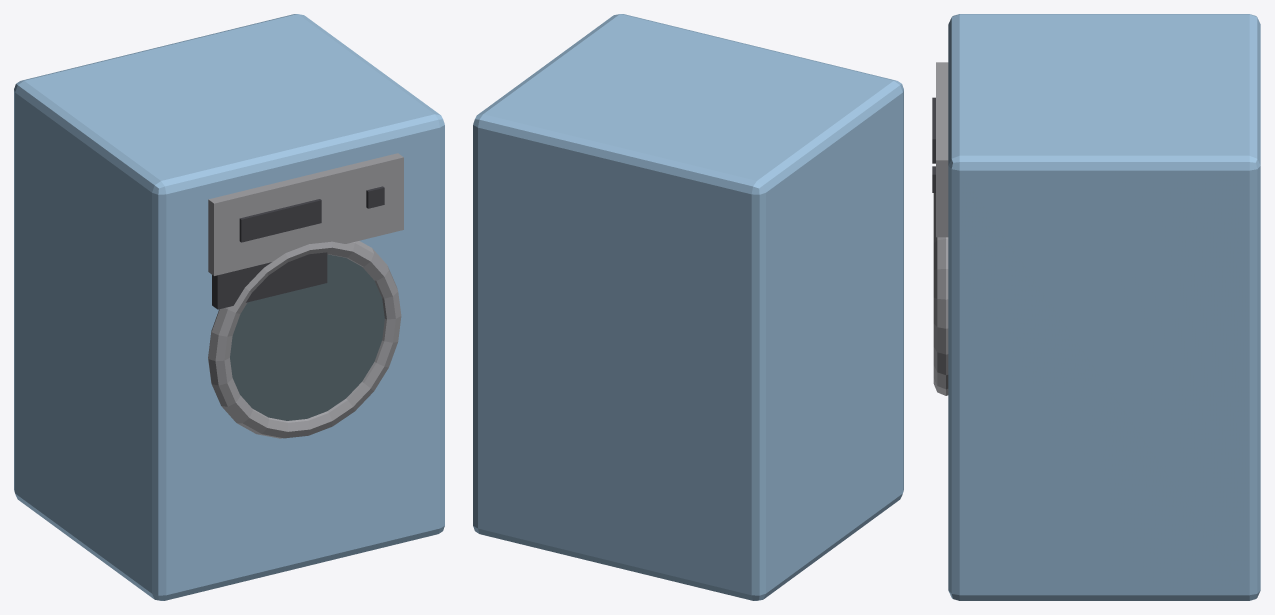
File: Appliance.fbx
3 renders of one model, left to right at view 1: azimuth 30°, elevation 25°; view 2: azimuth 150°, elevation 25°; view 3: azimuth 270°, elevation 25°, orthographic. The views are drawn at different scales.
Parts seen in each view (by area): view 1: Appliance; view 2: Appliance; view 3: Appliance.
Part boxes in pixels (box(x1,y1,x2,y2)): Appliance: box(14, 14, 444, 600); Appliance: box(473, 14, 903, 600); Appliance: box(932, 14, 1260, 600).
Bounding box in the file's own units: 0.8 × 1.1 × 0.736.
